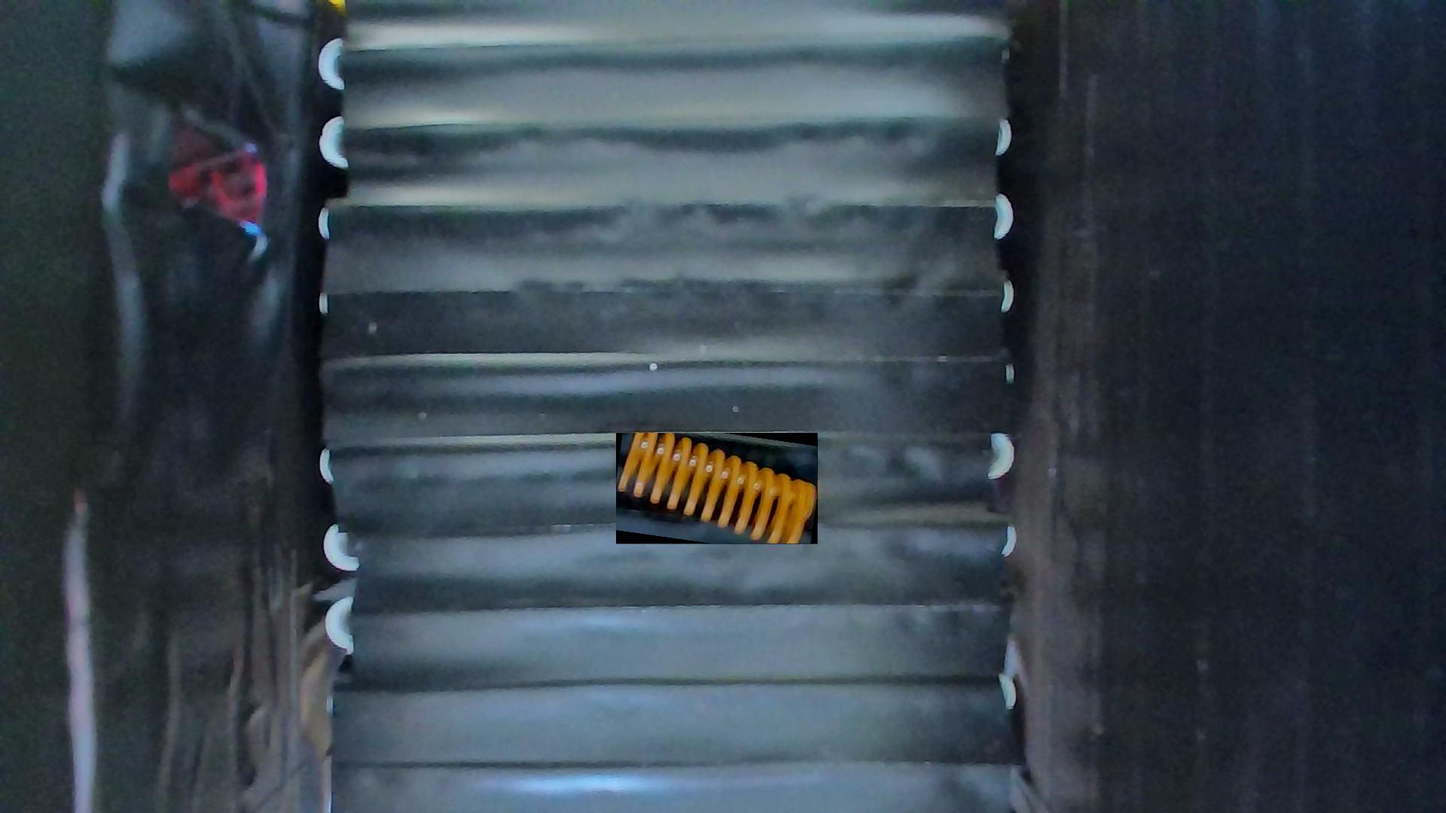spring: (617, 433, 819, 545)
